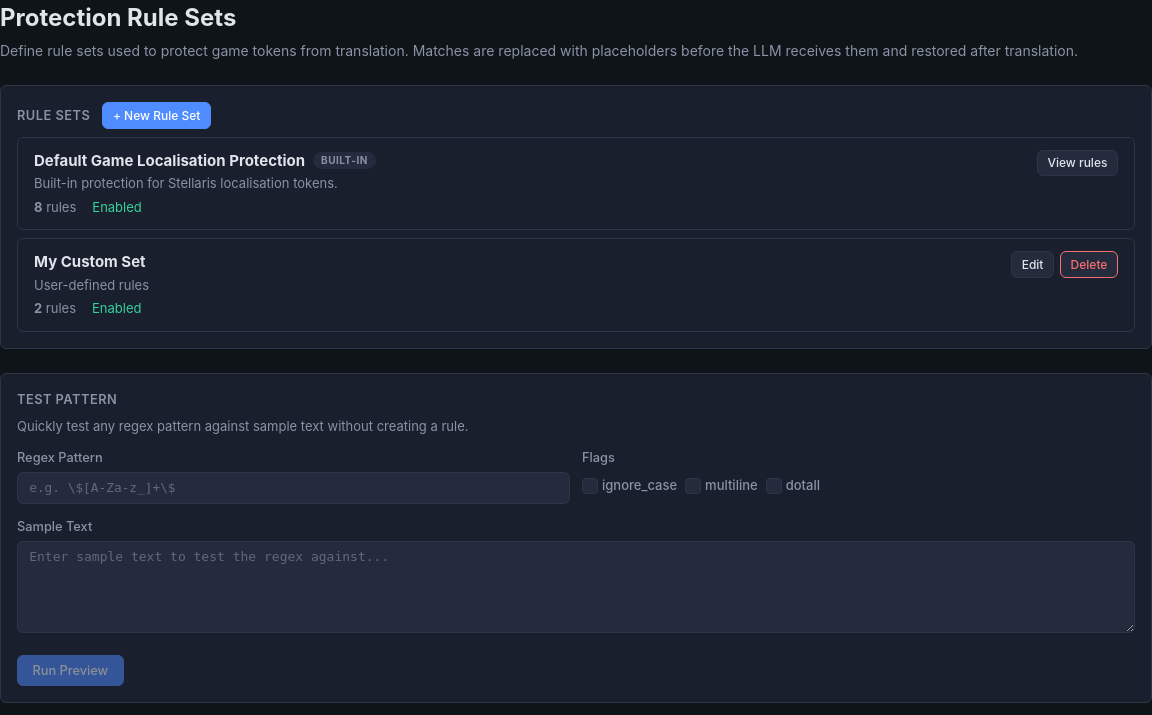
ProtectionRules — rule-set-centric UI › changing rule_kind updates help text
Click the text "My Custom Set": coordinates (90, 262) [34, 251, 146, 274]
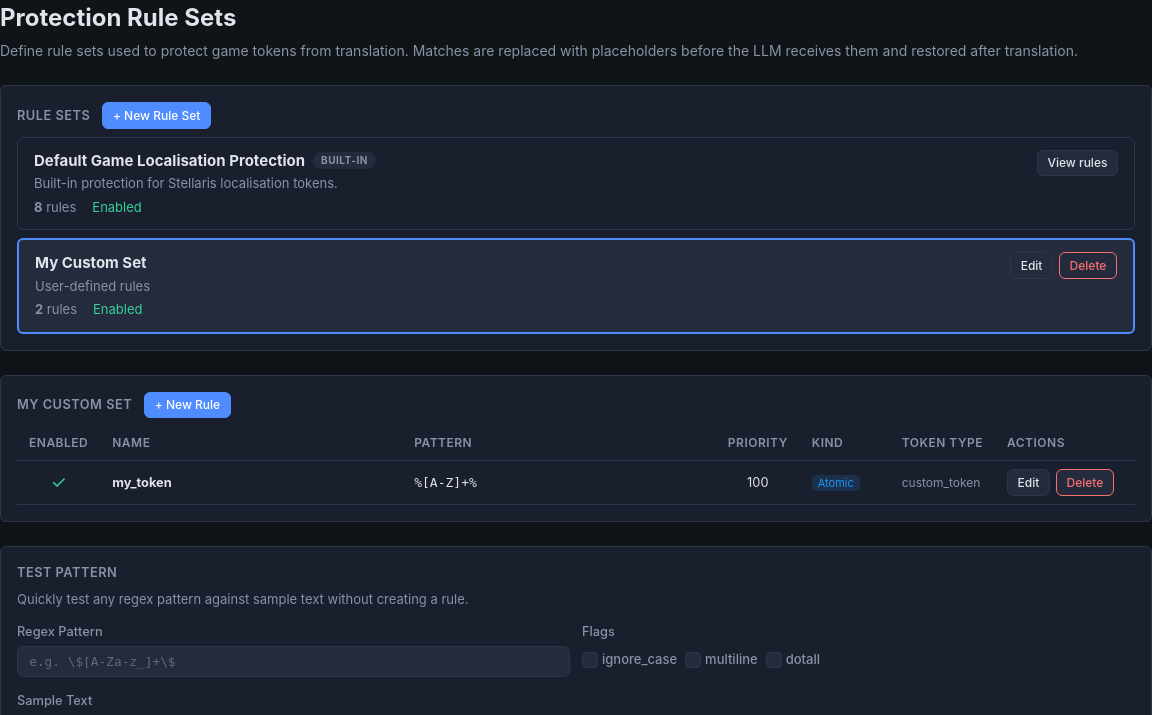
Expected: the button "+ New Rule" is shown
Click the button "+ New Rule": coordinates (187, 405) [144, 392, 231, 418]
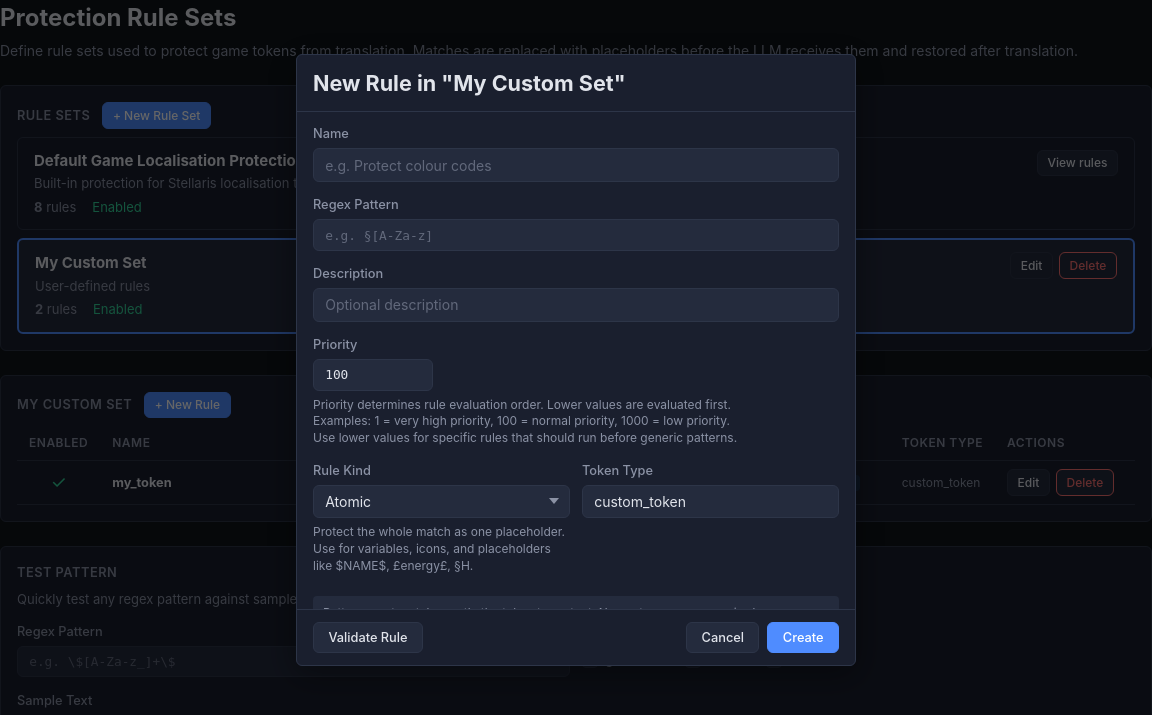
Expected: the heading "New Rule in \"My Custom Set\"" is shown, [313, 67, 626, 99]
Expected: the text "Protect the whole match as one placeholder" is shown, [313, 524, 565, 573]
# Change to boundary
Select "Boundary" in the dropdown showing "Atomic": coordinates (442, 501) [313, 485, 570, 518]
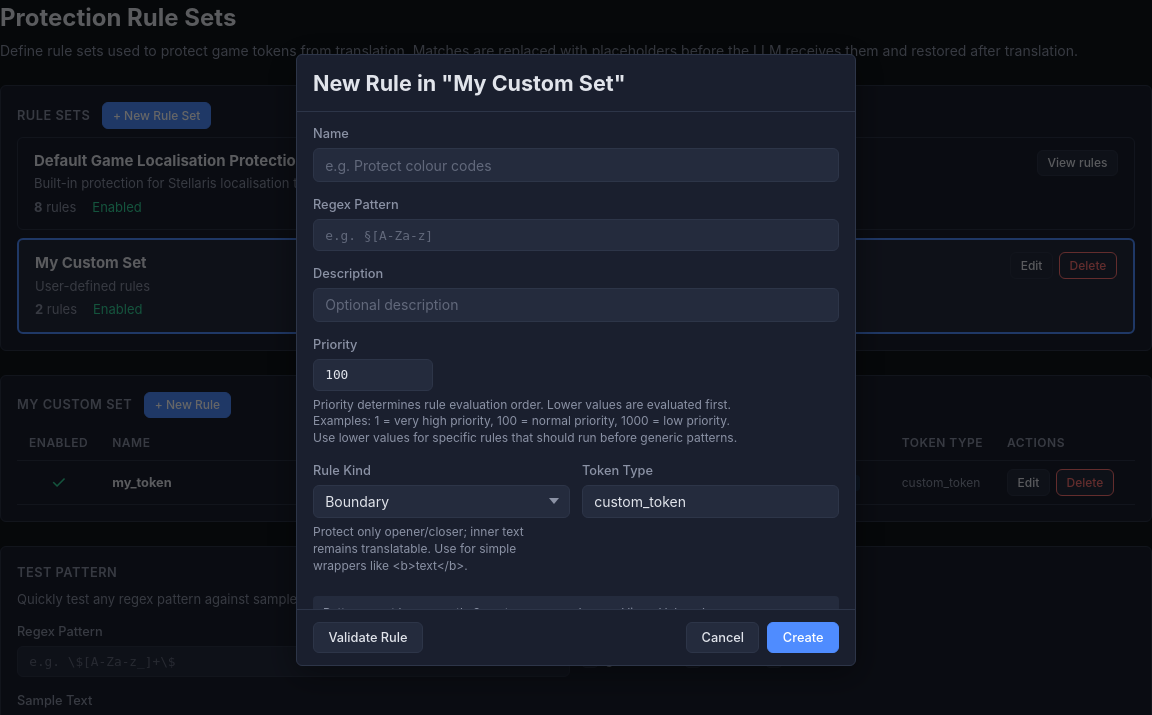
Expected: the text "Protect only opener/closer" is shown, [313, 524, 524, 573]
# Change to structured_container
Select "Structured Container" in the dropdown showing "Atomic": coordinates (442, 501) [313, 485, 570, 518]
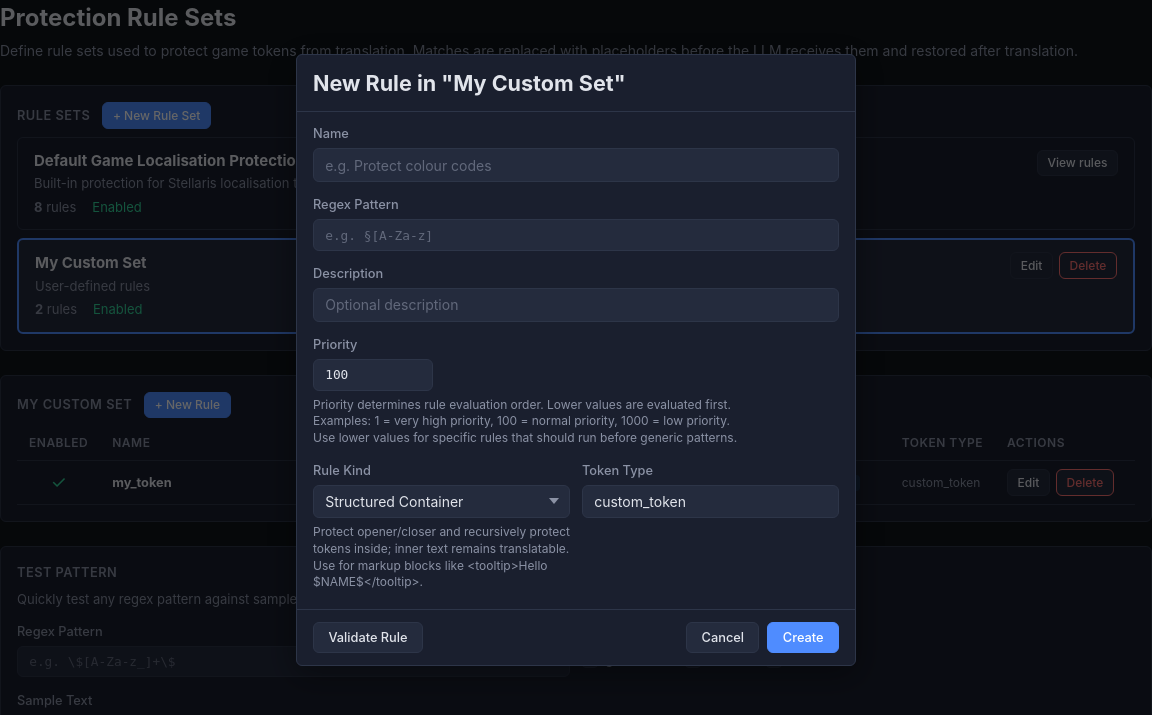
# Change to opaque_container
Select "Opaque Container" in the dropdown showing "Atomic": coordinates (442, 501) [313, 485, 570, 518]
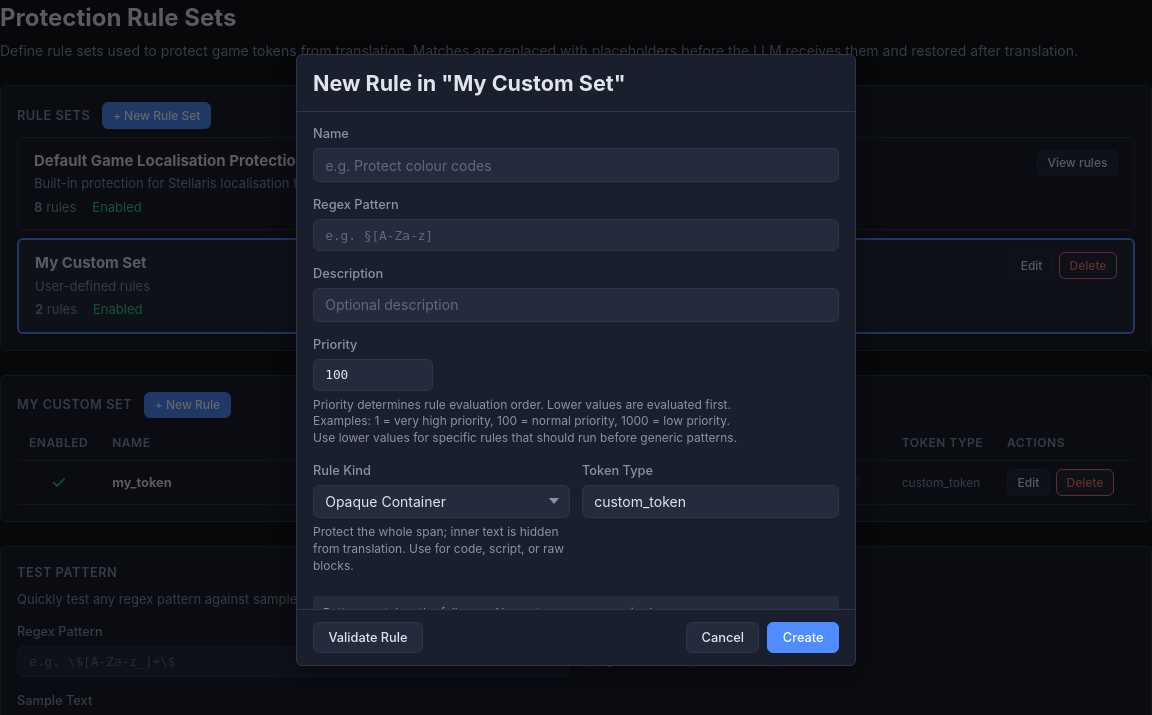
Expected: the text "hidden from translation" is shown, [313, 524, 564, 573]
